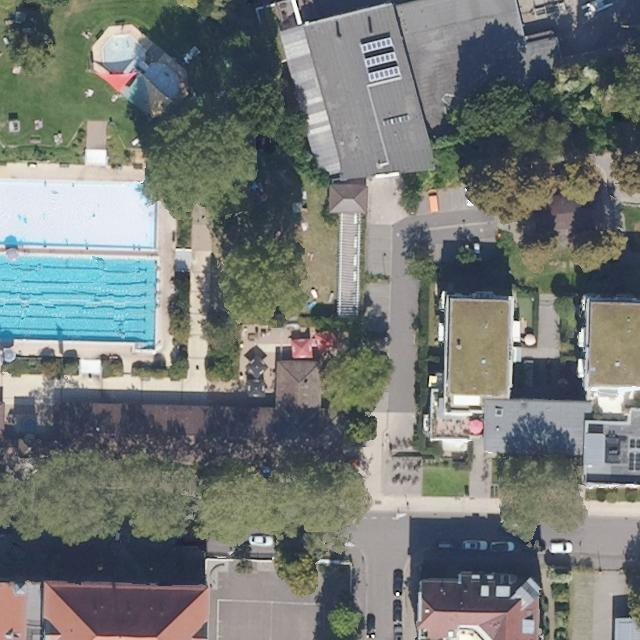PV: (359, 36, 402, 83), (628, 451, 639, 471), (629, 438, 639, 449)
